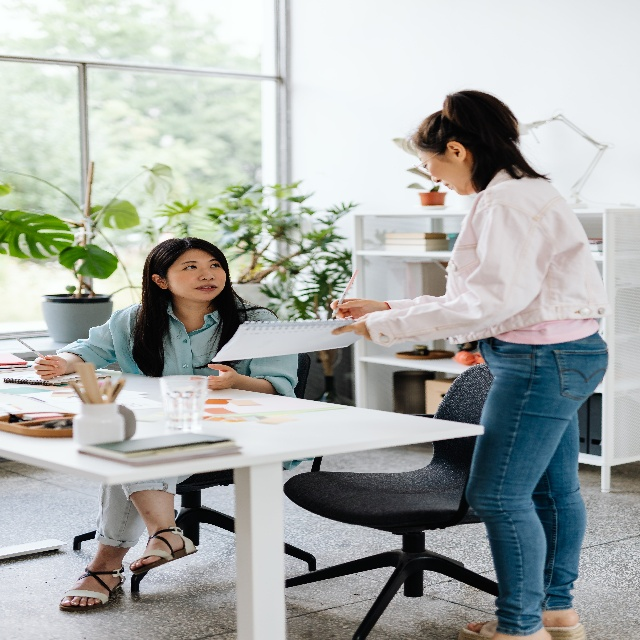Sin_guantes: (331, 312, 371, 341), (330, 298, 384, 319), (32, 354, 67, 380), (207, 362, 238, 390)
